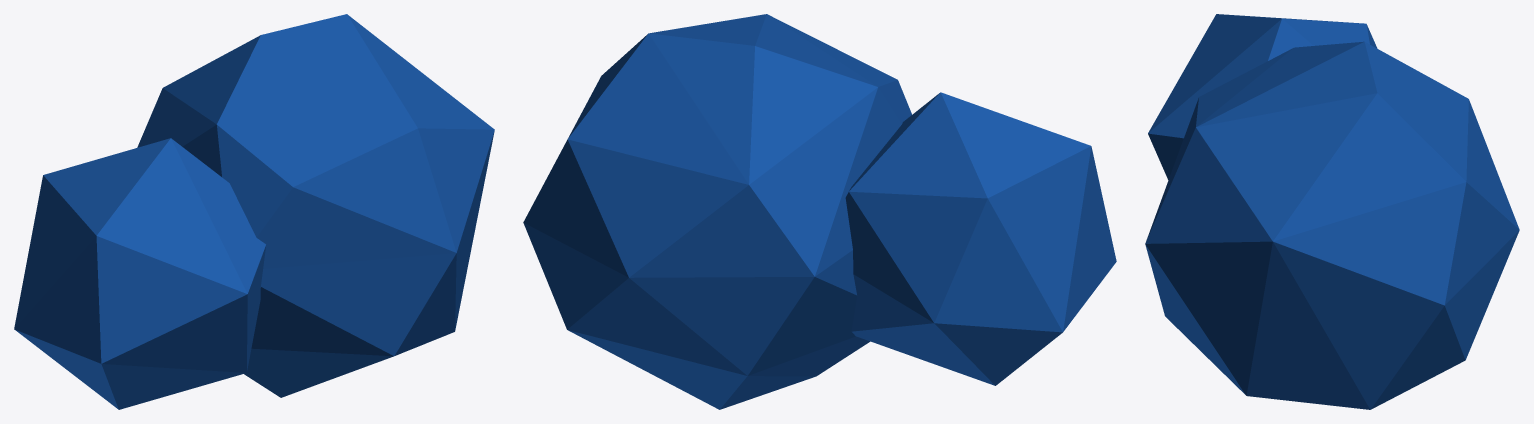
Rendered from island3_cloud.obj.
3 views of the same model, side by side, from view 1: azimuth 30°, elevation 25°; view 2: azimuth 150°, elevation 25°; view 3: azimuth 270°, elevation 25° (orthographic). The views are drawn at different scales.
Parts seen in each view (by area): view 1: Icosphere.000_Icosphere.008; view 2: Icosphere.000_Icosphere.008; view 3: Icosphere.000_Icosphere.008.
Boxes of the visible parts, x1,y1,x2,y2 form: Icosphere.000_Icosphere.008: [14, 14, 494, 409]; Icosphere.000_Icosphere.008: [523, 14, 1116, 409]; Icosphere.000_Icosphere.008: [1145, 14, 1519, 409].
Bounding box in the file's own units: 8.41 × 5.95 × 5.98.
